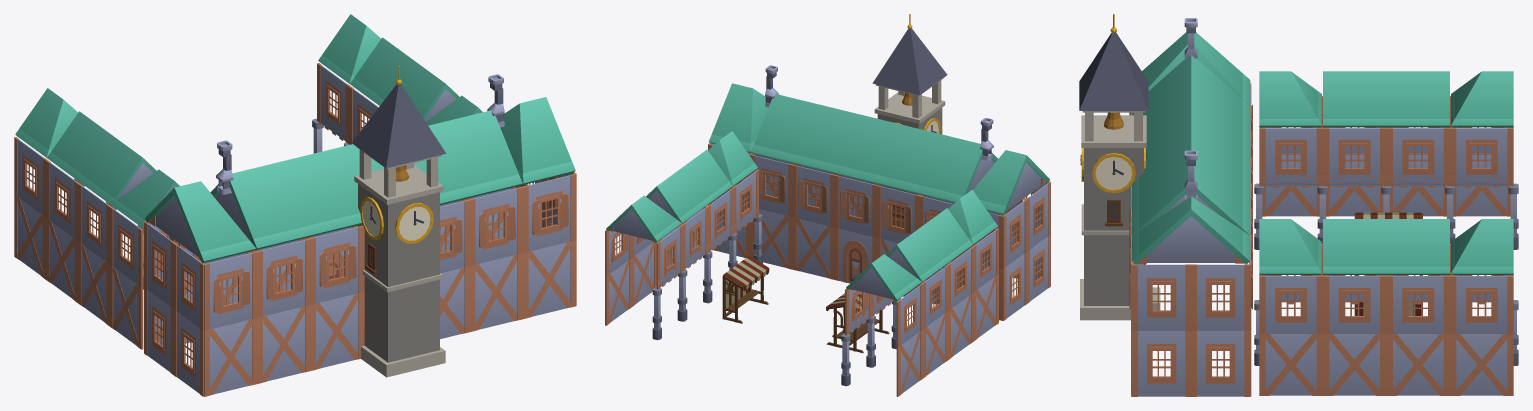
Rendered from london_trade_3.glb.
3 renders of one model, left to right at view 1: azimuth 30°, elevation 25°; view 2: azimuth 150°, elevation 25°; view 3: azimuth 270°, elevation 25°, orthographic. The views are drawn at different scales.
Visible parts, largest first — view 1: wall-window-shutters (×16), wall-detail-cross (×10), roof-gable (×9), roof-gable-end (×6), Tower shaft, Tower spire, Tower courses, Tower clock faces, Tower lantern, Tower clock rims; view 2: wall-window-shutters (×20), roof-gable (×9), wall-detail-cross (×9), roof-gable-end (×6), Tower spire, pillar-stone (×6), MarketStand_2, wall-door, MarketStand_1, Tower courses, Tower lantern, Tower shaft (+1 smaller); view 3: wall-window-shutters (×12), roof-gable (×9), wall-detail-cross (×8), roof-gable-end (×6), Tower shaft, Tower spire, Tower courses, pillar-stone (×4), Tower clock faces, Tower lantern, Tower clock rims, MarketStand_1.
Part boxes in pixels (bbox=[...]): wall-window-shutters (×16): bbox=[14, 63, 576, 396]; wall-detail-cross (×10): bbox=[14, 195, 576, 396]; roof-gable (×9): bbox=[47, 37, 522, 250]; roof-gable-end (×6): bbox=[15, 14, 575, 263]; Tower shaft: bbox=[358, 184, 439, 362]; Tower spire: bbox=[352, 84, 445, 168]; Tower courses: bbox=[354, 165, 445, 377]; Tower clock faces: bbox=[362, 201, 430, 240]; Tower lantern: bbox=[357, 147, 441, 197]; Tower clock rims: bbox=[360, 197, 433, 243]; wall-window-shutters (×20): bbox=[605, 154, 1050, 347]; roof-gable (×9): bbox=[646, 94, 997, 282]; wall-detail-cross (×9): bbox=[605, 198, 998, 396]; roof-gable-end (×6): bbox=[606, 83, 1049, 301]; Tower spire: bbox=[872, 29, 947, 94]; pillar-stone (×6): bbox=[652, 214, 875, 386]; MarketStand_2: bbox=[722, 256, 769, 323]; wall-door: bbox=[834, 228, 876, 282]; MarketStand_1: bbox=[826, 293, 889, 353]; Tower courses: bbox=[874, 92, 945, 123]; Tower lantern: bbox=[876, 78, 943, 118]; Tower shaft: bbox=[877, 108, 942, 195]; wall-window-shutters (×12): bbox=[1132, 128, 1513, 396]; roof-gable (×9): bbox=[1132, 55, 1449, 274]; wall-detail-cross (×8): bbox=[1259, 154, 1513, 395]; roof-gable-end (×6): bbox=[1132, 32, 1513, 274]; Tower shaft: bbox=[1084, 148, 1143, 305]; Tower spire: bbox=[1079, 32, 1148, 110]; Tower courses: bbox=[1080, 115, 1146, 320]; pillar-stone (×4): bbox=[1254, 183, 1518, 249]; Tower clock faces: bbox=[1095, 157, 1132, 189]; Tower lantern: bbox=[1082, 111, 1145, 141]; Tower clock rims: bbox=[1081, 148, 1145, 193]; MarketStand_1: bbox=[1354, 212, 1422, 275].
Size of the model in its own units: 19 by 14.17 by 19.35.
Materials: 26 (9 with a texture image).
